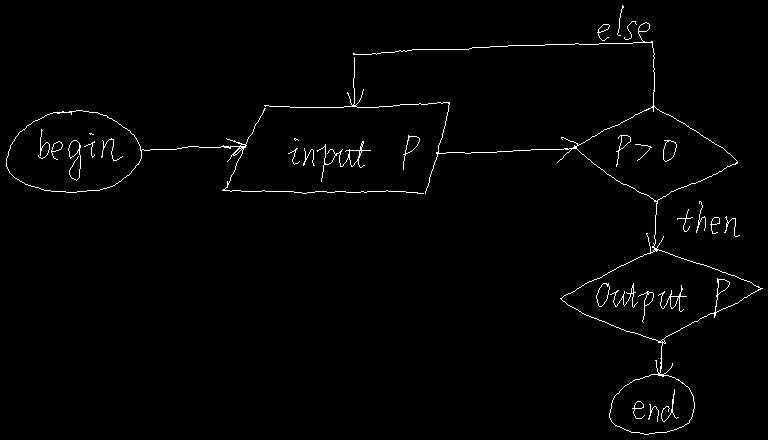arrow: (347, 41, 654, 111), (436, 137, 577, 162), (140, 138, 246, 161), (646, 202, 663, 252), (655, 341, 672, 375)
data: (222, 102, 449, 193)
decision: (560, 246, 762, 343), (573, 106, 737, 202)
terminator: (6, 110, 141, 192), (609, 374, 694, 434)
text: (288, 135, 419, 181), (596, 278, 729, 322), (38, 129, 122, 180), (677, 201, 739, 236), (597, 5, 649, 42), (616, 135, 676, 166), (632, 389, 678, 421)
